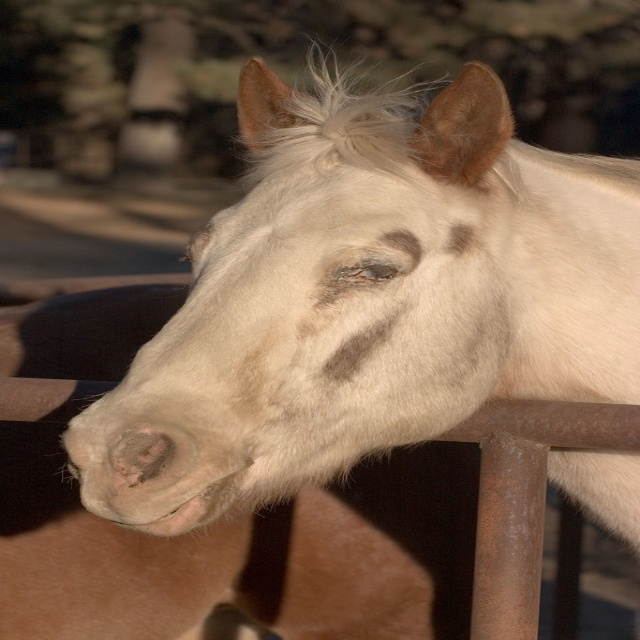Horse: (59, 28, 639, 556), (0, 285, 474, 640)
